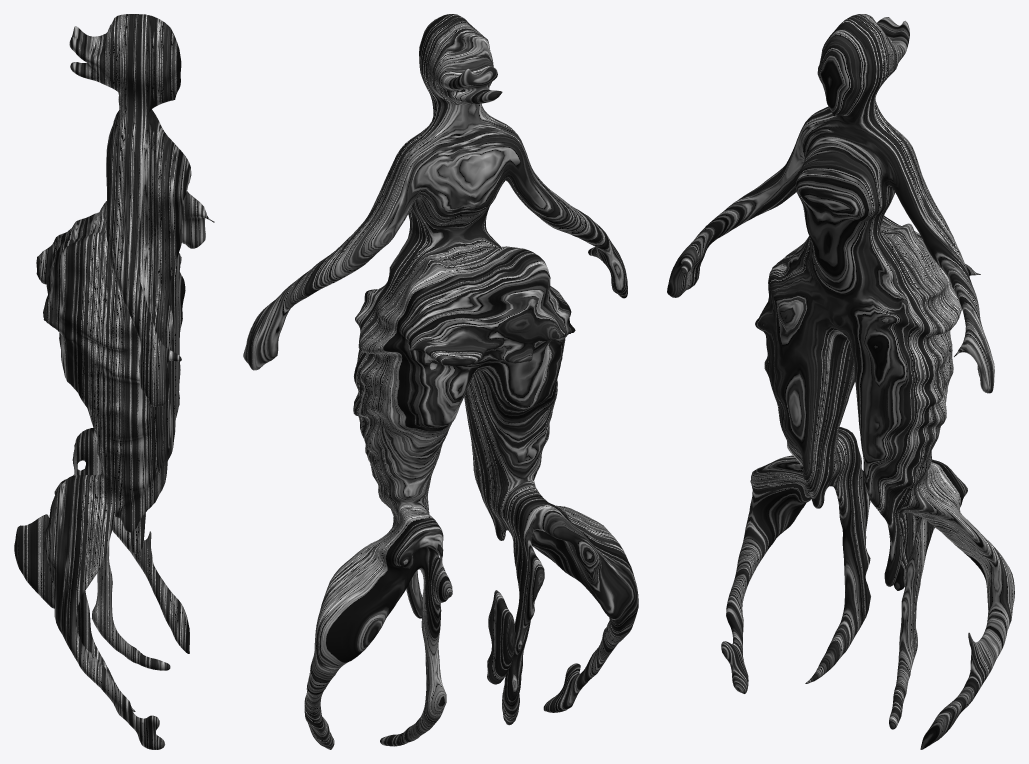
File: Alien3.obj
3 views of the same model, side by side, from view 1: azimuth 30°, elevation 25°; view 2: azimuth 150°, elevation 25°; view 3: azimuth 270°, elevation 25° (orthographic). The views are drawn at different scales.
Visible parts, largest first — view 1: ModernArt; view 2: ModernArt; view 3: ModernArt.
Boxes of the visible parts, x1,y1,x2,y2 form: ModernArt: (14, 14, 214, 749); ModernArt: (243, 14, 638, 749); ModernArt: (667, 14, 1014, 749).
Bounding box in the file's own units: 1.5 × 3.85 × 1.76.
1 material, 1 textured.
